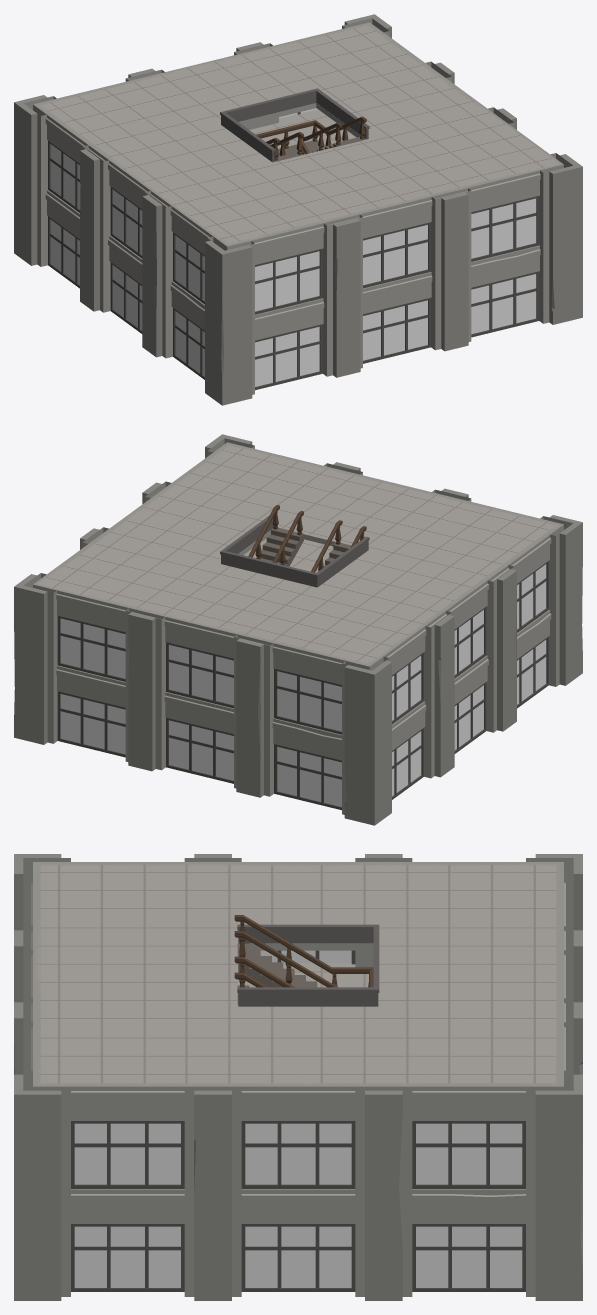
Rendered from SM_Bldg_City_High-Rise_01_Mid_01.fbx.
3 renders of one model, top to bottom at view 1: azimuth 30°, elevation 25°; view 2: azimuth 150°, elevation 25°; view 3: azimuth 270°, elevation 25°, orthographic. The views are drawn at different scales.
Parts seen in each view (by area): view 1: SM_Bldg_City_High-Rise_01_Mid_01, SM_Bldg_City_High-Rise_01_Mid_01_Glass; view 2: SM_Bldg_City_High-Rise_01_Mid_01, SM_Bldg_City_High-Rise_01_Mid_01_Glass; view 3: SM_Bldg_City_High-Rise_01_Mid_01, SM_Bldg_City_High-Rise_01_Mid_01_Glass.
Boxes of the visible parts, x1,y1,x2,y2 form: SM_Bldg_City_High-Rise_01_Mid_01: (14, 14, 582, 405); SM_Bldg_City_High-Rise_01_Mid_01_Glass: (50, 108, 536, 386); SM_Bldg_City_High-Rise_01_Mid_01: (14, 434, 582, 825); SM_Bldg_City_High-Rise_01_Mid_01_Glass: (60, 564, 546, 806); SM_Bldg_City_High-Rise_01_Mid_01: (14, 854, 582, 1300); SM_Bldg_City_High-Rise_01_Mid_01_Glass: (74, 950, 522, 1287).
Size of the model in its own units: 1500 by 686 by 1500.
